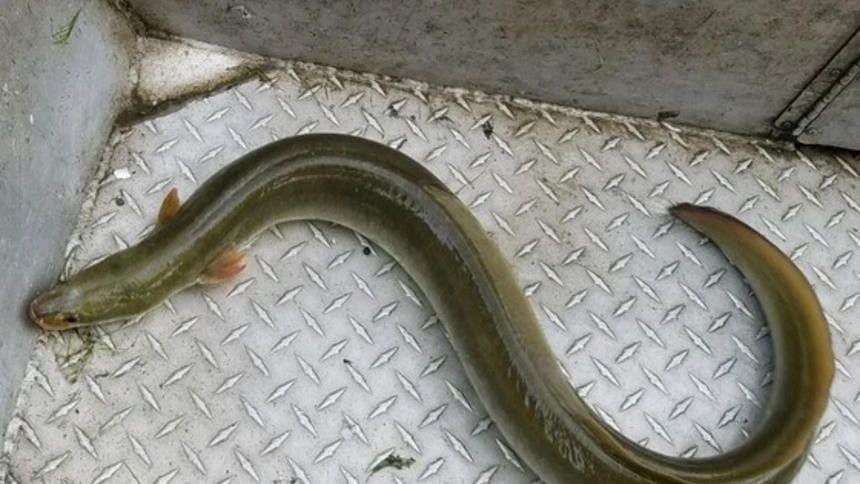Freshwater Eel: (27, 122, 835, 484)
